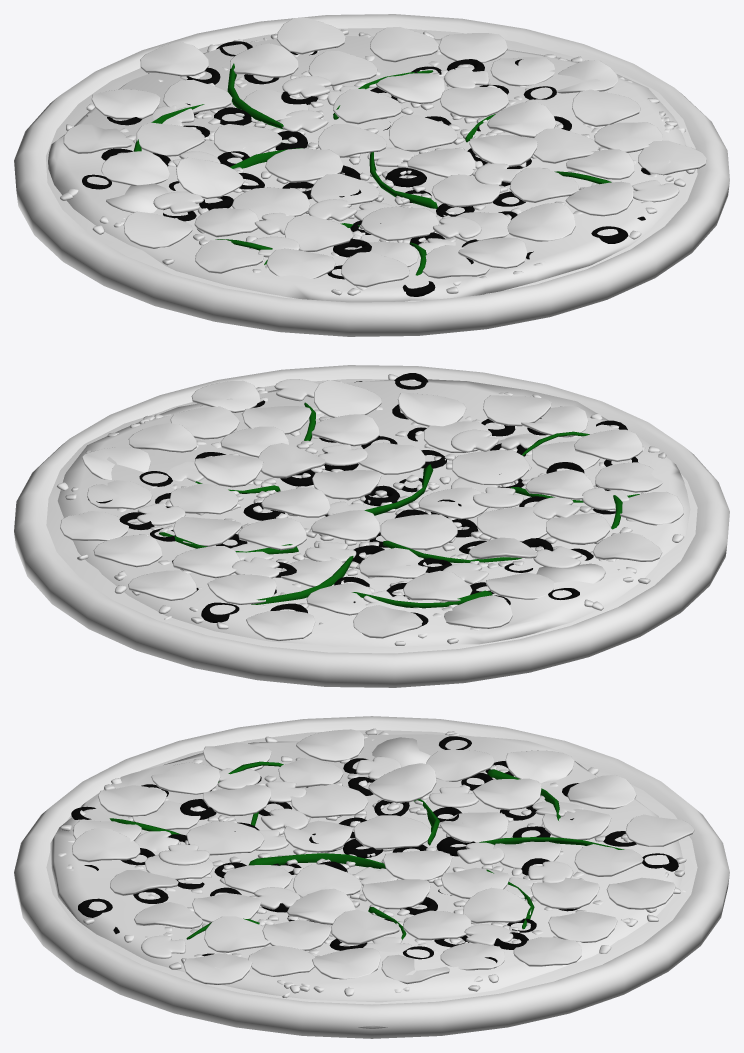
Rendered from 99avenue 1.fbx.
3 renders of one model, top to bottom at view 1: azimuth 30°, elevation 25°; view 2: azimuth 150°, elevation 25°; view 3: azimuth 270°, elevation 25°, orthographic.
Parts seen in each view (by area): view 1: pepperoni.002, pizzadow_burn_low.002, pizzacheese.002, mushroom,.001, Olive.001, corn.002, pizzasource.002, pepper.001; view 2: pepperoni.002, pizzadow_burn_low.002, pizzacheese.002, mushroom,.001, Olive.001, pizzasource.002, corn.002, pepper.001; view 3: pepperoni.002, pizzadow_burn_low.002, pizzacheese.002, mushroom,.001, Olive.001, pizzasource.002, corn.002, pepper.001.
Part boxes in pixels (<box>): pepperoni.002: <box>63,17,706,287</box>; pizzadow_burn_low.002: <box>14,14,729,336</box>; pizzacheese.002: <box>48,36,686,302</box>; mushroom,.001: <box>152,67,679,257</box>; Olive.001: <box>82,41,650,296</box>; corn.002: <box>60,29,695,295</box>; pizzasource.002: <box>46,28,697,301</box>; pepper.001: <box>133,63,611,275</box>; pepperoni.002: <box>60,380,683,640</box>; pizzadow_burn_low.002: <box>14,365,729,687</box>; pizzacheese.002: <box>57,379,690,646</box>; mushroom,.001: <box>136,379,629,609</box>; Olive.001: <box>88,373,638,625</box>; pizzasource.002: <box>46,379,697,653</box>; corn.002: <box>57,374,683,645</box>; pepper.001: <box>159,402,639,608</box>; pepperoni.002: <box>72,729,694,984</box>; pizzadow_burn_low.002: <box>14,716,729,1038</box>; pizzacheese.002: <box>50,734,684,1002</box>; mushroom,.001: <box>134,756,581,958</box>; Olive.001: <box>71,736,678,968</box>; pizzasource.002: <box>46,730,697,1028</box>; corn.002: <box>58,728,686,997</box>; pepper.001: <box>109,761,624,939</box>.
Bounding box in the file's own units: 23.85 × 2.12 × 23.79.
